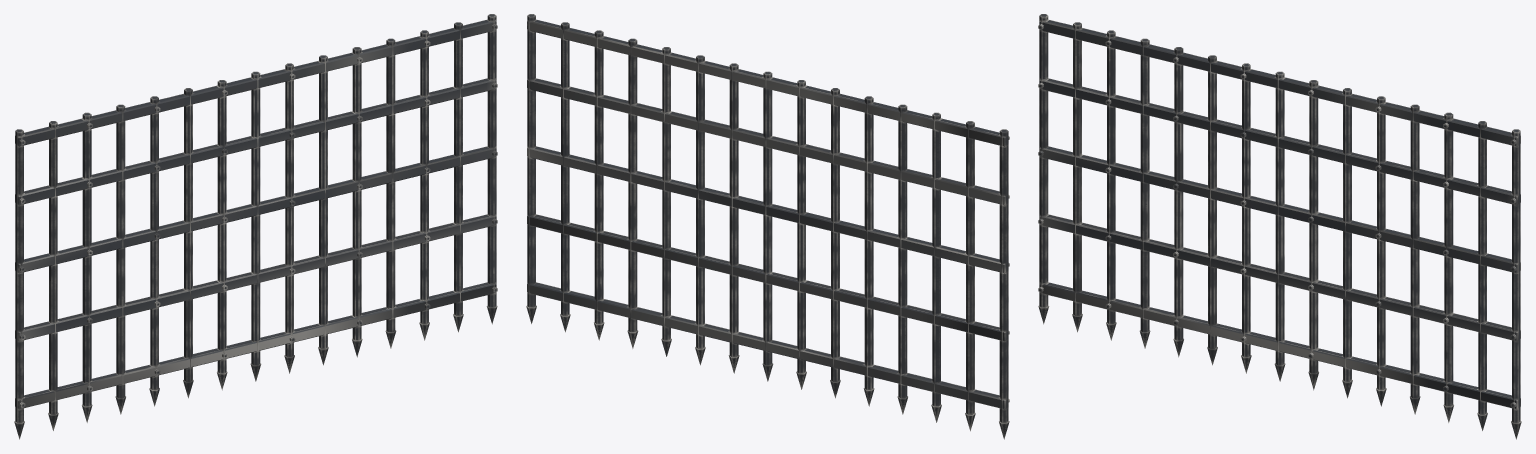
Rendered from gallows_gate.glb.
The picture shows the model from 3 angles, left to right: view 1: azimuth 30°, elevation 25°; view 2: azimuth 150°, elevation 25°; view 3: azimuth 330°, elevation 25°; orthographic projection.
Parts seen in each view (by area): view 1: gallows_gate; view 2: gallows_gate; view 3: gallows_gate.
Part boxes in pixels (x1=…): gallows_gate: x1=14, y1=14, x2=497, y2=439; gallows_gate: x1=526, y1=14, x2=1009, y2=439; gallows_gate: x1=1038, y1=14, x2=1521, y2=439.
Bounding box in the file's own units: 8.14 × 5 × 0.185.
Materials: 1 (1 with a texture image).
